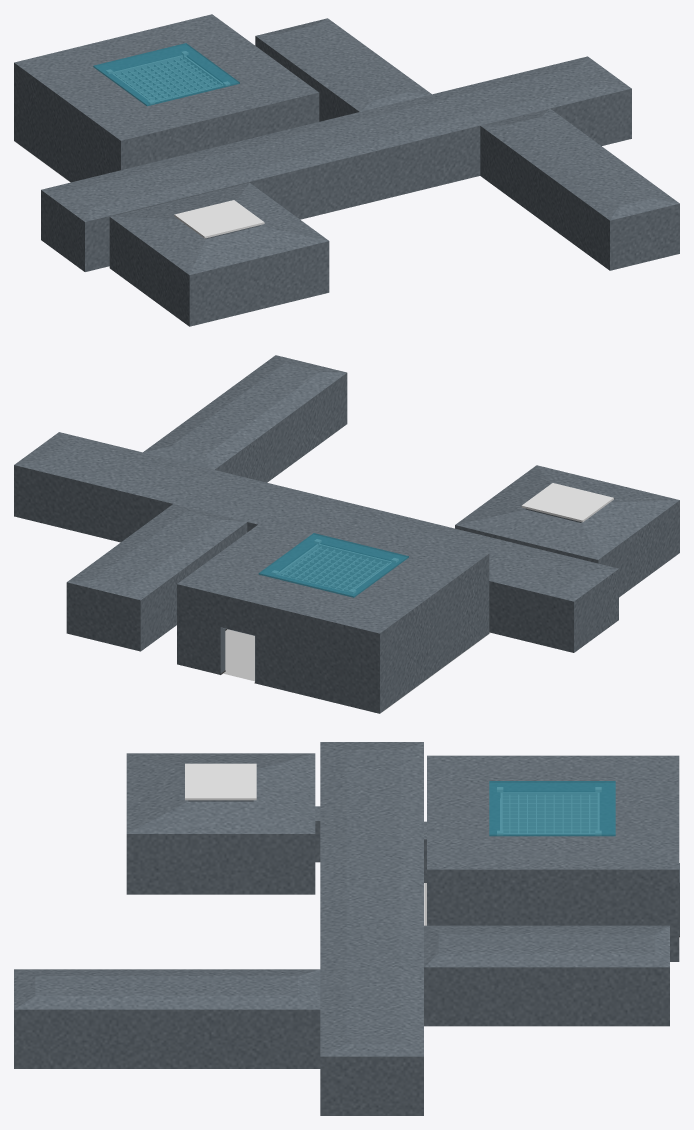
The model's file is RongGallery.fbx.
3 renders of one model, top to bottom at view 1: azimuth 30°, elevation 25°; view 2: azimuth 150°, elevation 25°; view 3: azimuth 270°, elevation 25°, orthographic. The views are drawn at different scales.
Visible parts, largest first — view 1: outWall1, Glass, Top, Top2; view 2: outWall1, Glass, Top, Top2, floor2; view 3: outWall1, Glass, Top, Top2.
Part boxes in pixels (x1,y1,x2,y2): outWall1: (14, 14, 679, 326); Glass: (93, 43, 239, 106); Top: (106, 51, 229, 104); Top2: (174, 200, 264, 238); outWall1: (14, 355, 679, 713); Glass: (258, 533, 408, 597); Top: (271, 539, 398, 593); Top2: (521, 483, 613, 522); floor2: (223, 629, 490, 712); outWall1: (14, 742, 679, 1115); Glass: (489, 781, 615, 836); Top: (497, 787, 601, 835); Top2: (185, 763, 256, 800).
Bounding box in the file's own units: 7063 × 1028 × 6317.
